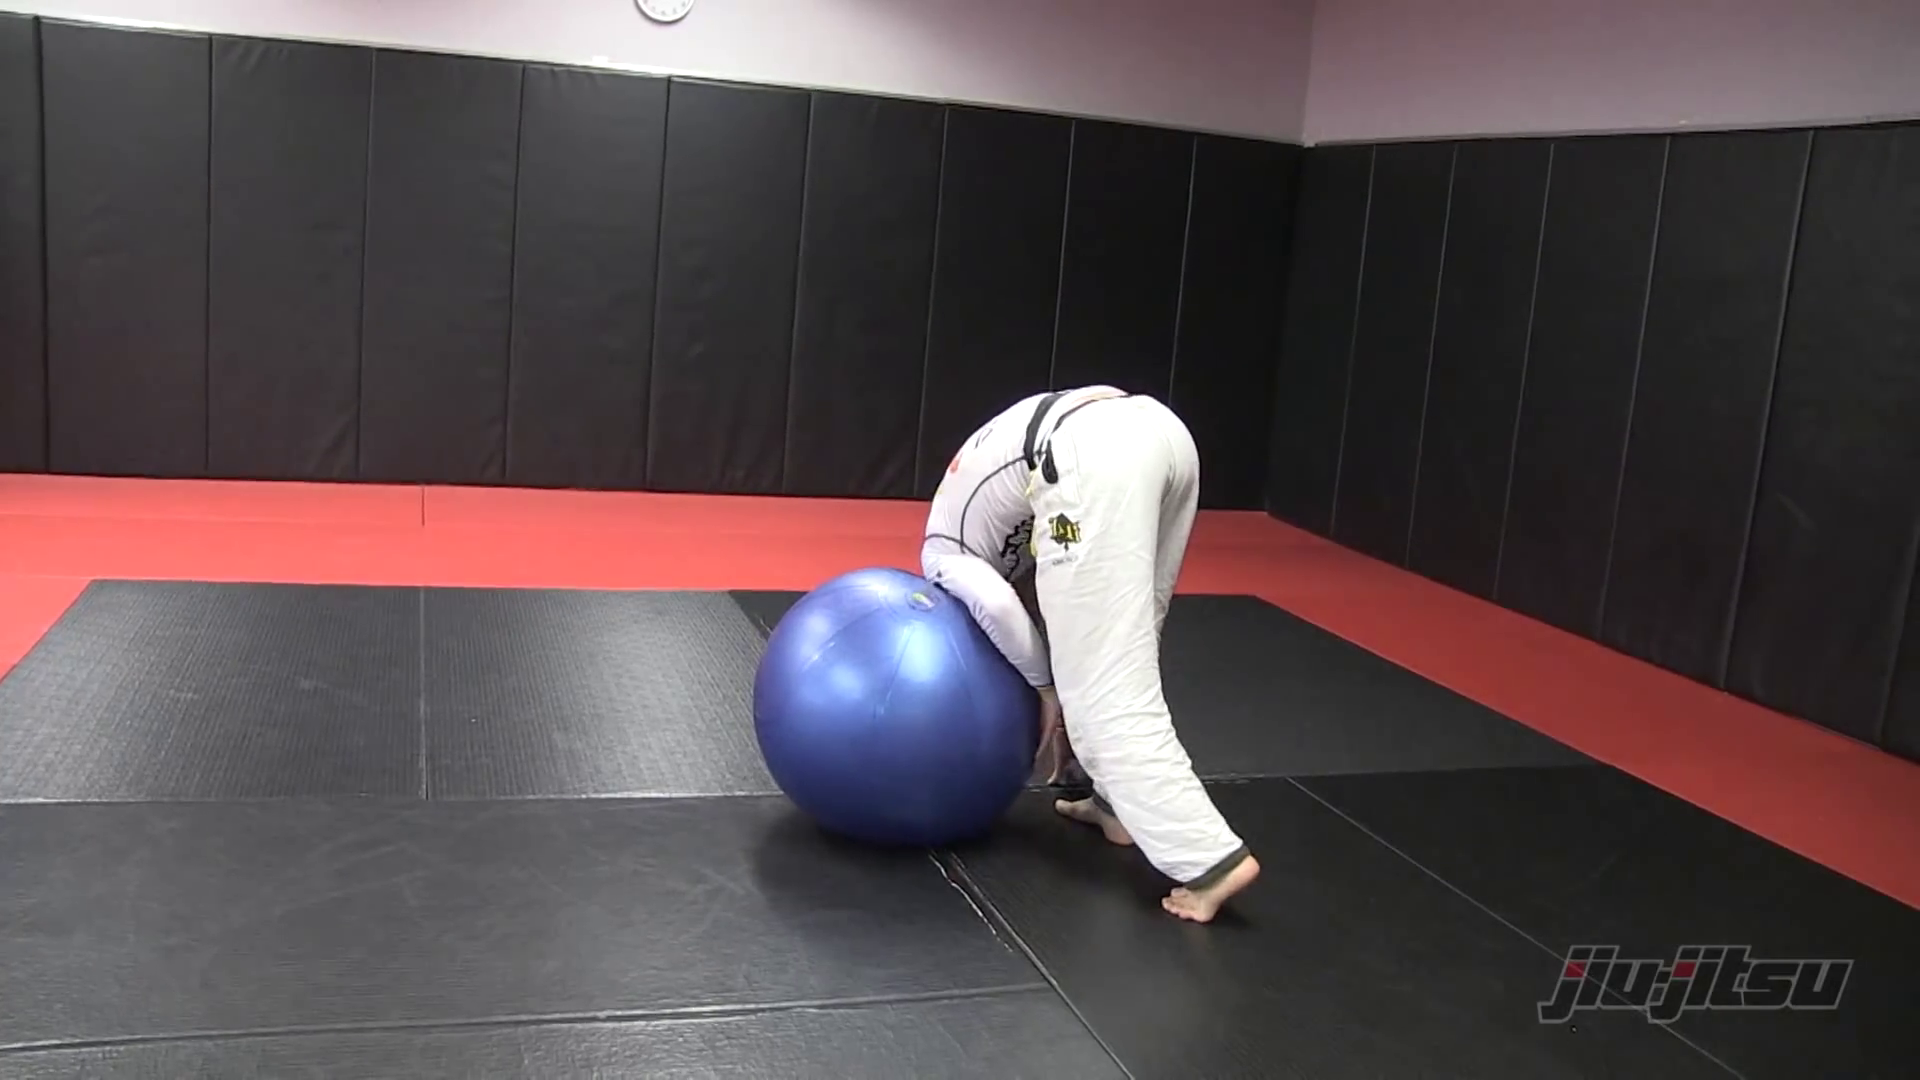yogaball: (731, 560, 1065, 865)
